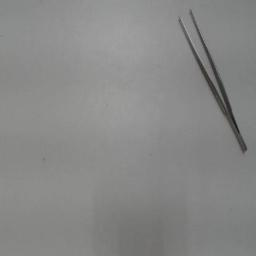Gillies Toothed Dissector: (173, 2, 251, 154)
